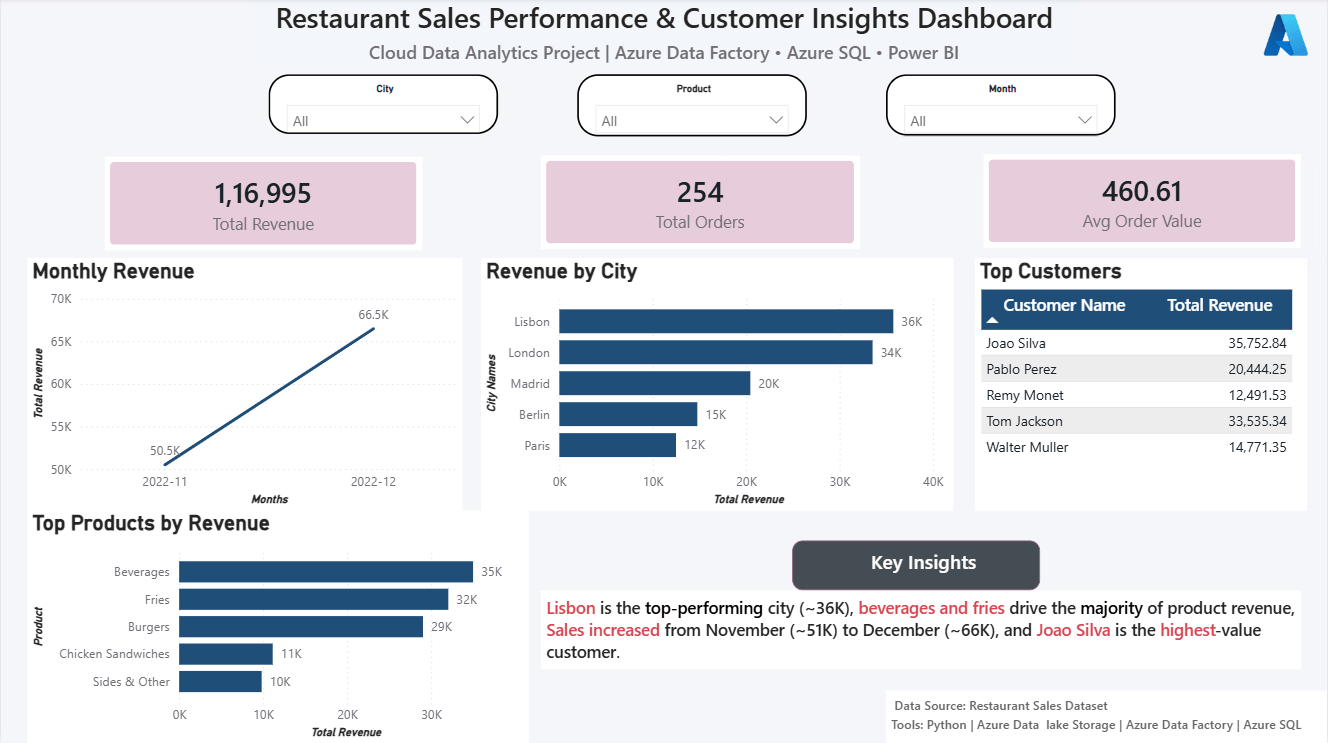

The dashboard page shown, as its layout file describes it:
{"tool":"powerbi","page":{"name":"Sales Dashboard","canvas":[1280,720],"ordinal":0},"visuals":[{"type":"lineChart","title":" Monthly Revenue ","fields":{"Y":["Sum(gold_monthly_sales.total_revenue)"],"Category":["gold_monthly_orders.month"]},"box":[25.3,250.9,419.8,243.7],"z":0},{"type":"clusteredBarChart","title":" Revenue by City","fields":{"Category":["gold_city_sales.city"],"Y":["Sum(gold_city_sales.total_revenue)"]},"box":[463.3,250.9,456,243.7],"z":1000},{"type":"clusteredBarChart","title":" Top Products by Revenue","fields":{"Category":["gold_product_sales.product"],"Y":["Sum(gold_product_sales. Total Revenue)"]},"box":[25.3,494.6,483.8,225.6],"z":2000},{"type":"tableEx","title":"Top Customers","fields":{"Values":["gold_customer_sales.customer_Name","gold_customer_sales.total_revenue"]},"box":[939.8,250.9,320.9,243.7],"z":3000},{"type":"slicer","title":"City","fields":{"Values":["gold_city_sales.city"]},"box":[258.2,73.6,222,57.9],"z":4000},{"type":"slicer","title":"Product","fields":{"Values":["gold_product_sales.product"]},"box":[556.2,73.6,222,60.3],"z":5000},{"type":"slicer","title":"Month","fields":{"Values":["gold_monthly_orders.month"]},"box":[854.2,73.6,222,59.1],"z":6000},{"type":"textbox","box":[521.2,571.9,733.5,76],"z":7000},{"type":"cardVisual","fields":{"Data":["Sum(gold_product_sales. Total Revenue)"]},"box":[100.1,153.2,306.4,90.5],"z":8000},{"type":"textbox","title":"Restaurant Sales Performance & Customer Insights Dashboard","box":[241.2,0,797.5,64],"z":9000},{"type":"cardVisual","fields":{"Data":["Sum(gold_monthly_orders.total_orders)"]},"box":[521.2,152,307.6,90.5],"z":10000},{"type":"cardVisual","fields":{"Data":["Sum(gold_avg_order_value.avg_order_value)"]},"box":[948.3,150.8,306.4,90.5],"z":11000},{"type":"image","box":[1210.1,15.7,60.3,39.8],"z":12000},{"type":"textbox","box":[763.7,523.6,238.9,48.3],"z":13000},{"type":"textbox","box":[854.2,668.4,425.9,51.9],"z":14000}]}

Visuals, with their boxes in screenshot pixels (x1, y1, x2, y2), scaled from the page's 1280x720 canvas onto the 1328x743 screenshot:
" Monthly Revenue " lineChart: box(26, 259, 462, 510)
" Revenue by City" clusteredBarChart: box(481, 259, 954, 510)
" Top Products by Revenue" clusteredBarChart: box(26, 510, 528, 742)
"Top Customers" tableEx: box(975, 259, 1308, 510)
"City" slicer: box(268, 76, 498, 136)
"Product" slicer: box(577, 76, 807, 138)
"Month" slicer: box(886, 76, 1117, 137)
textbox: box(541, 590, 1302, 669)
cardVisual - Sum(gold_product_sales. Total Revenue): box(104, 158, 422, 251)
"Restaurant Sales Performance & Customer Insights Dashboard" textbox: box(250, 0, 1078, 66)
cardVisual - Sum(gold_monthly_orders.total_orders): box(541, 157, 860, 250)
cardVisual - Sum(gold_avg_order_value.avg_order_value): box(984, 156, 1302, 249)
image: box(1255, 16, 1318, 57)
textbox: box(792, 540, 1040, 590)
textbox: box(886, 690, 1327, 742)
